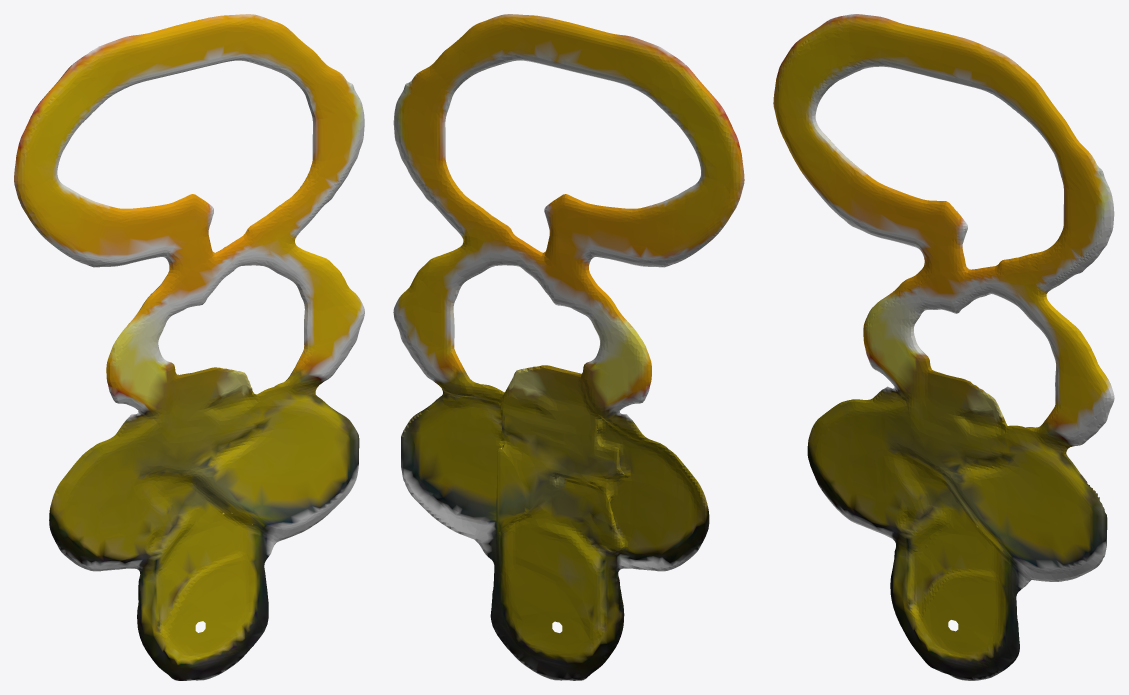
File: amulet_sorrow.glb
The picture shows the model from 3 angles, left to right: view 1: azimuth 30°, elevation 25°; view 2: azimuth 150°, elevation 25°; view 3: azimuth 330°, elevation 25°; orthographic projection. The views are drawn at different scales.
Parts seen in each view (by area): view 1: geometry_0; view 2: geometry_0; view 3: geometry_0.
Part boxes in pixels (bbox=[...]): geometry_0: bbox=[14, 14, 364, 680]; geometry_0: bbox=[393, 14, 744, 680]; geometry_0: bbox=[773, 14, 1114, 680].
Bounding box in the file's own units: 0.375 × 0.6763 × 0.0166.
